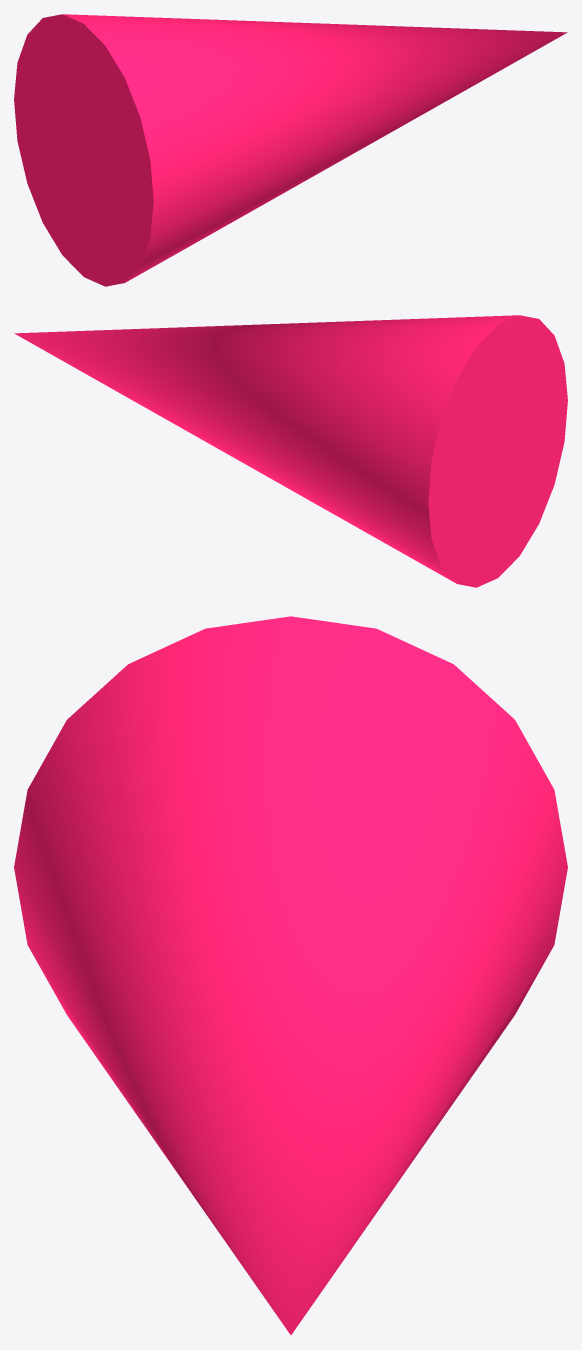
File: expansion_coupling_thrust.glb
3 renders of one model, top to bottom at view 1: azimuth 30°, elevation 25°; view 2: azimuth 150°, elevation 25°; view 3: azimuth 270°, elevation 25°, orthographic. The views are drawn at different scales.
Parts seen in each view (by area): view 1: th; view 2: th; view 3: th.
Boxes of the visible parts, box(x1,y1,x2,y2) form: th: box(14, 14, 567, 286); th: box(14, 315, 567, 587); th: box(14, 616, 567, 1334).
Bounding box in the file's own units: 0.08 × 0.04 × 0.04.
